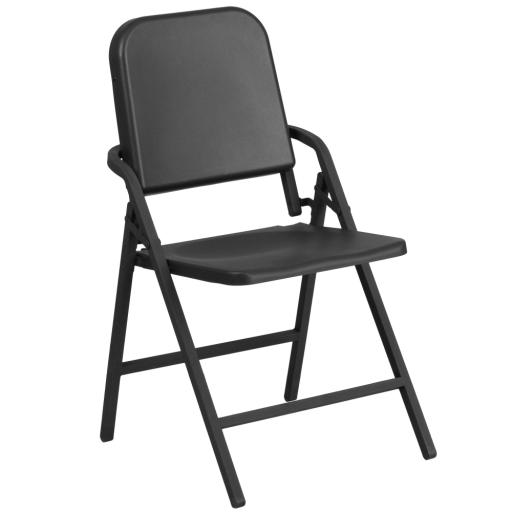chair: (100, 6, 437, 508)
